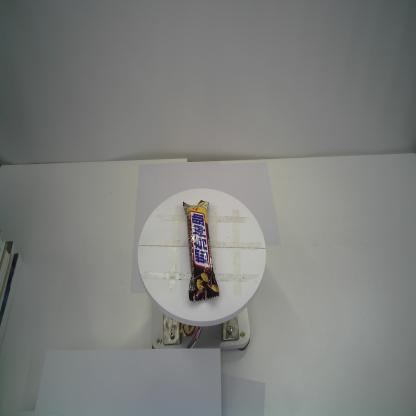Chocolate: (182, 199, 220, 302)
